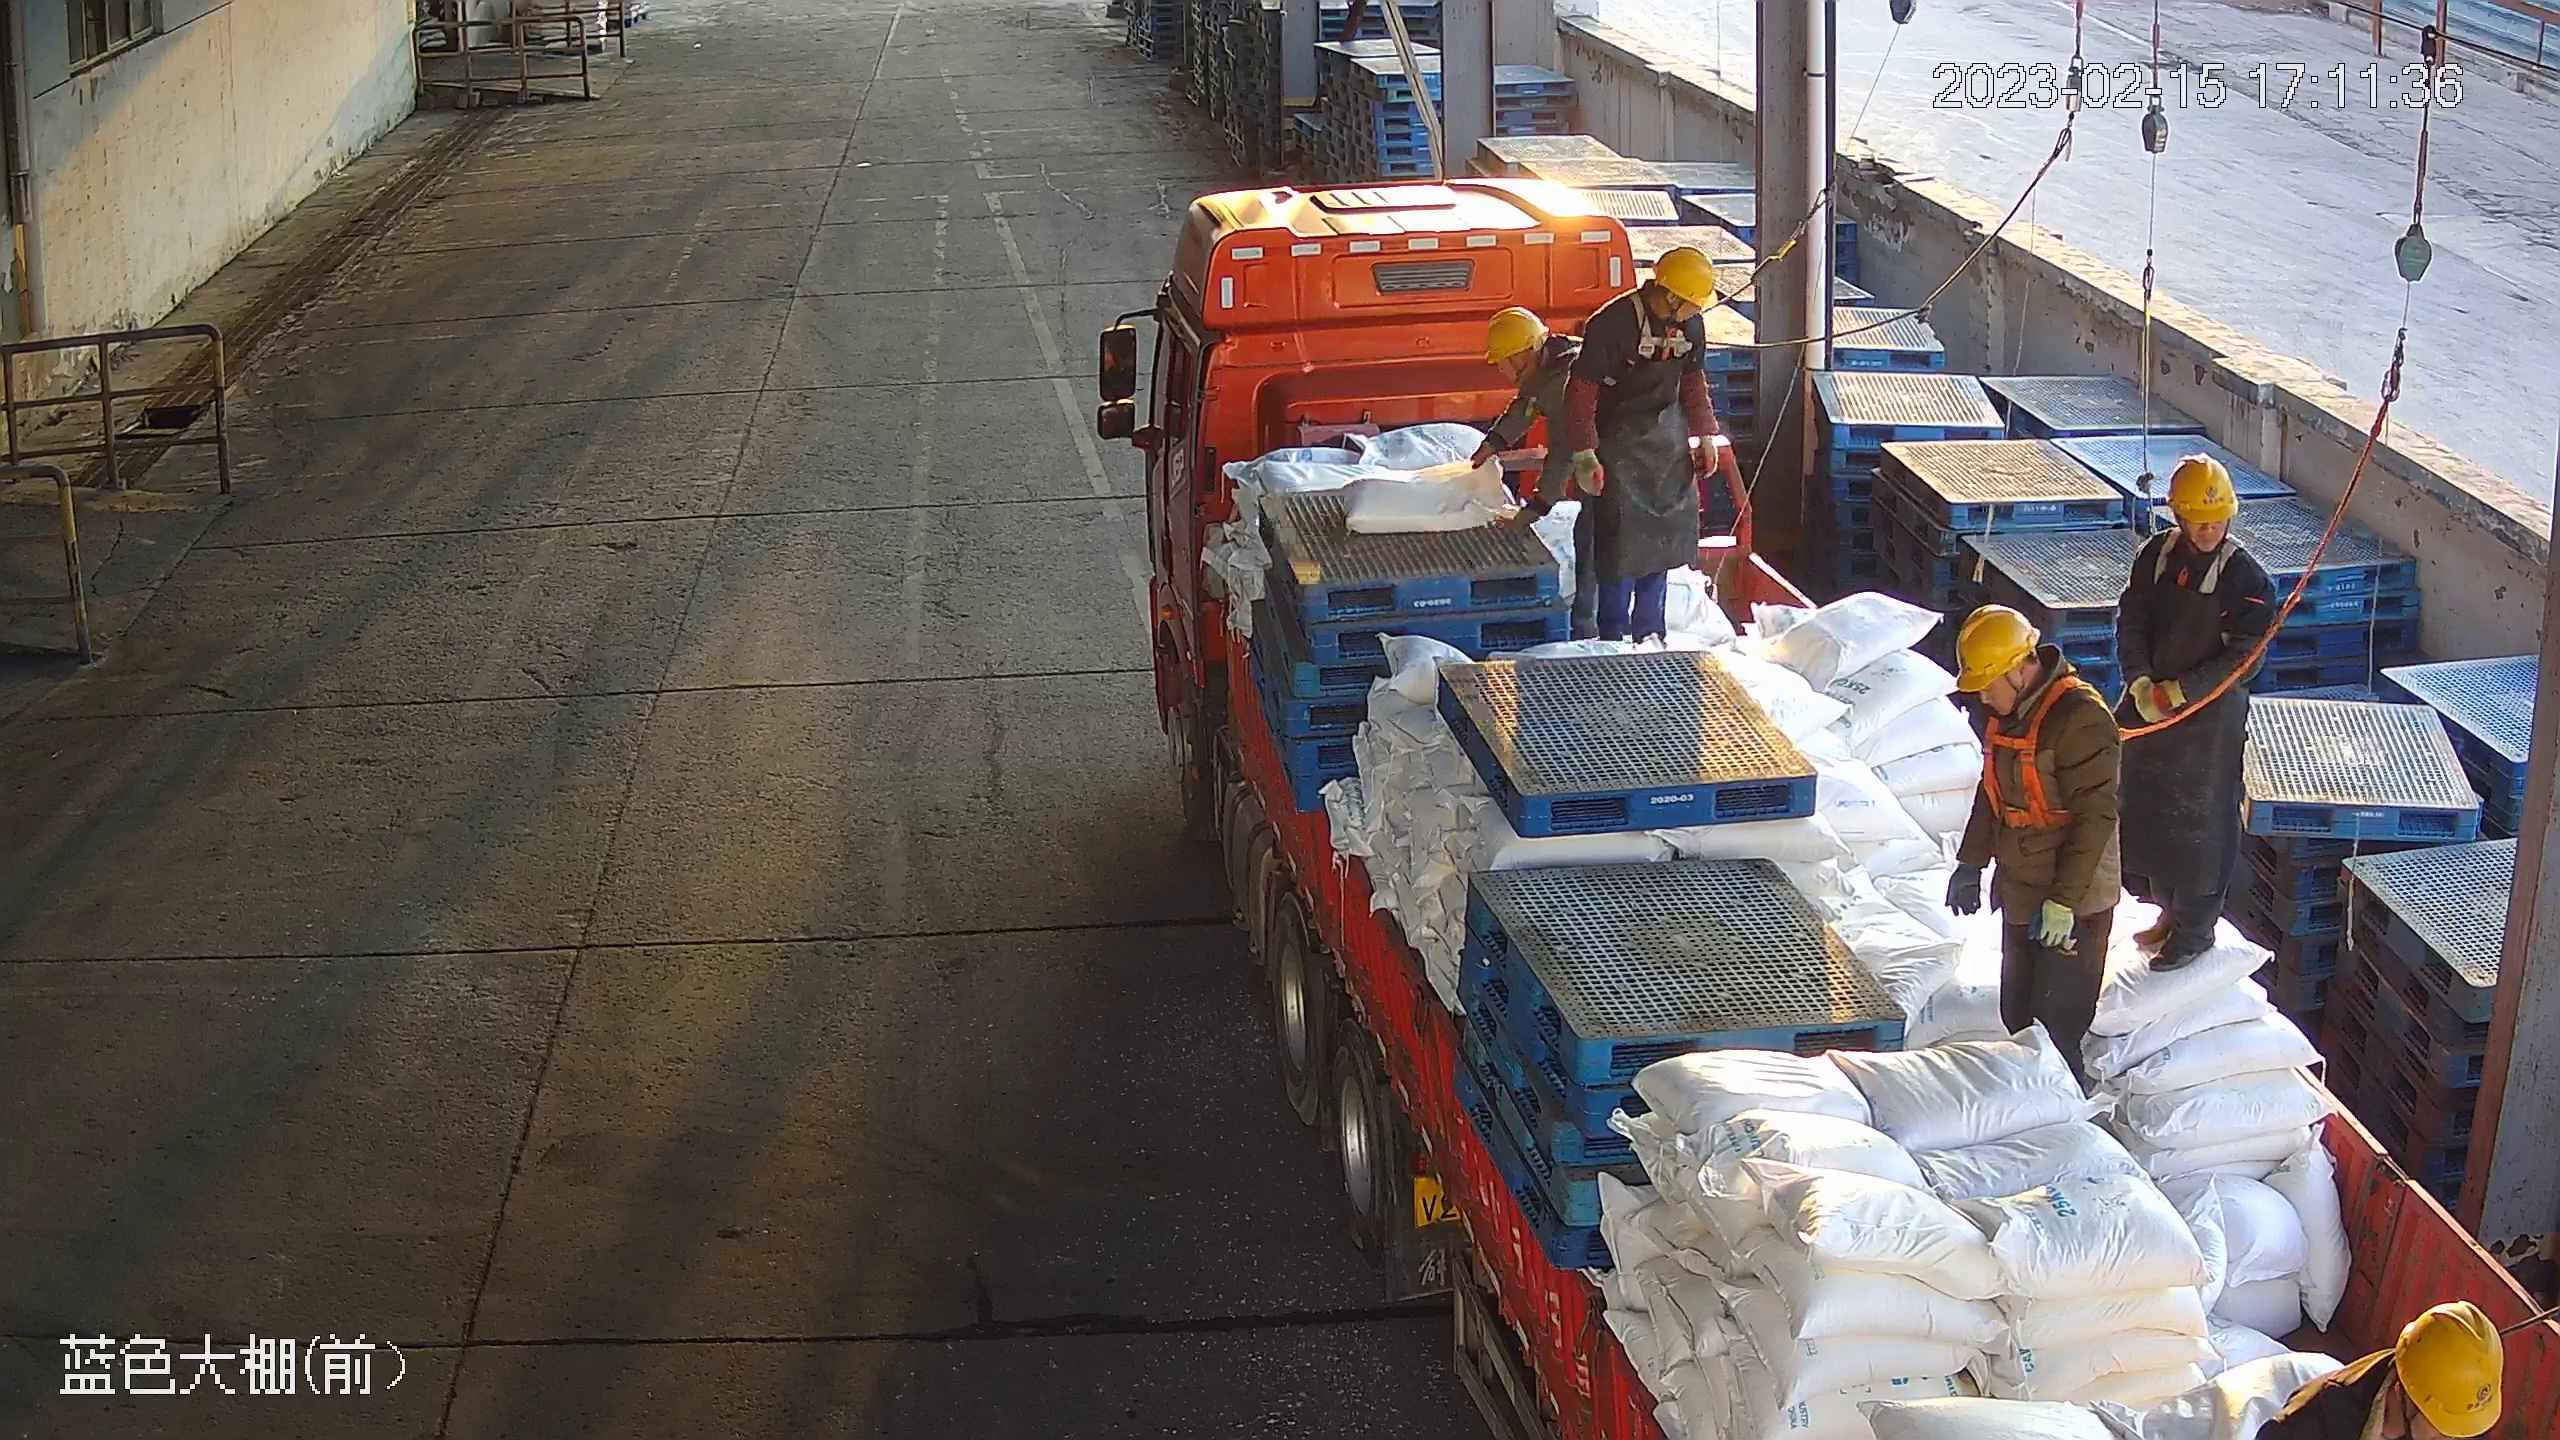belt: (1971, 683, 2145, 832), (2137, 532, 2276, 603), (1623, 294, 1701, 364)
head: (1945, 600, 2118, 779), (1554, 248, 1717, 386), (2134, 457, 2271, 611), (1478, 306, 1598, 430)
helmet: (2400, 1300, 2501, 1430), (1959, 606, 2037, 691), (2171, 457, 2239, 523), (1483, 305, 1551, 362), (1654, 244, 1717, 306)
people: (2112, 456, 2283, 972), (1944, 601, 2123, 1078), (1564, 245, 1720, 650)
truck: (1098, 178, 2560, 1440)
